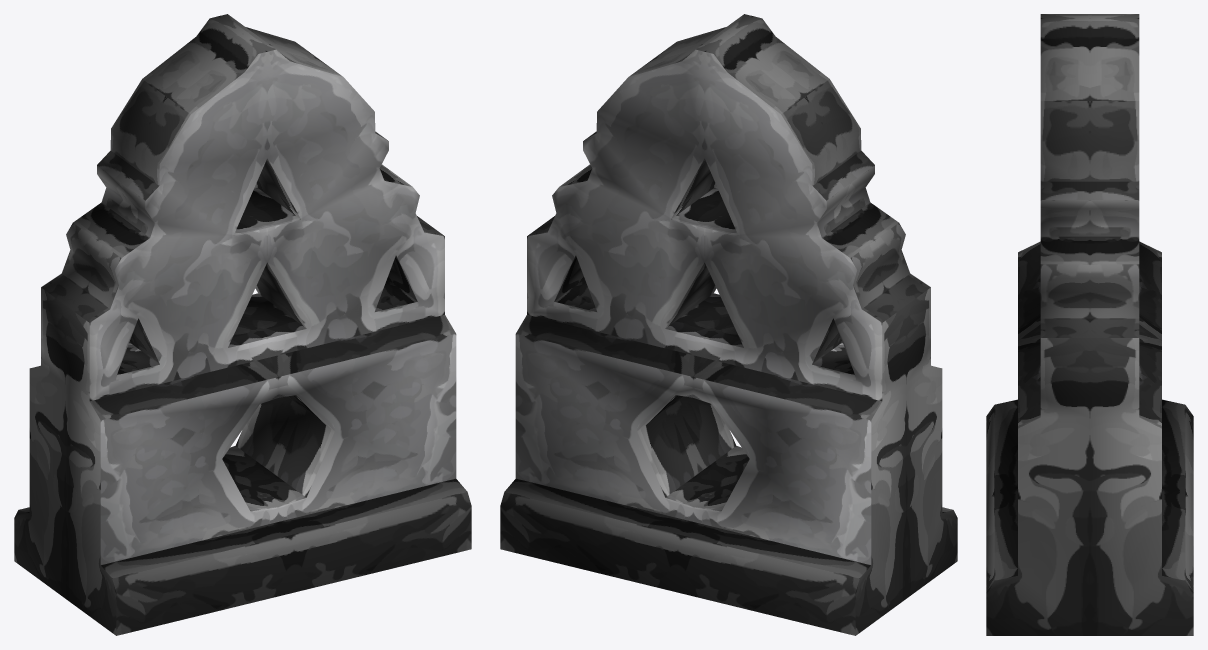
File: VV-WalakuluBemmaElement-2.fbx
The picture shows the model from 3 angles, left to right: view 1: azimuth 30°, elevation 25°; view 2: azimuth 150°, elevation 25°; view 3: azimuth 270°, elevation 25°; orthographic projection.
Visible parts, largest first — view 1: WalakuluBemma-top; view 2: WalakuluBemma-top; view 3: WalakuluBemma-top.
Part boxes in pixels (x1,y1,x2,y2): WalakuluBemma-top: (14, 14, 471, 635); WalakuluBemma-top: (500, 14, 957, 635); WalakuluBemma-top: (986, 14, 1193, 635).
Bounding box in the file's own units: 0.9946 × 1.39 × 0.495.
